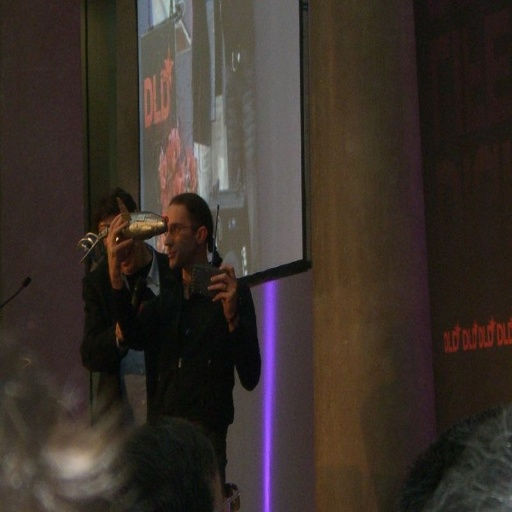hand: (201, 266, 243, 325), (104, 210, 136, 274)
